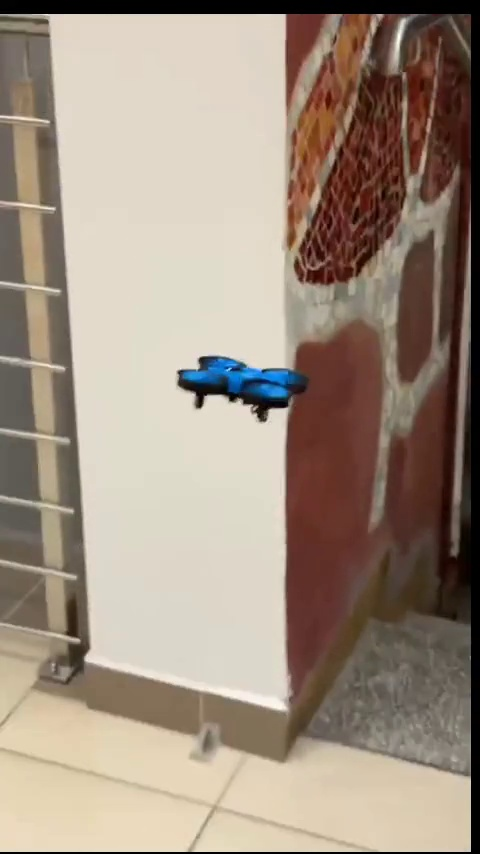drone: (162, 345, 303, 420)
